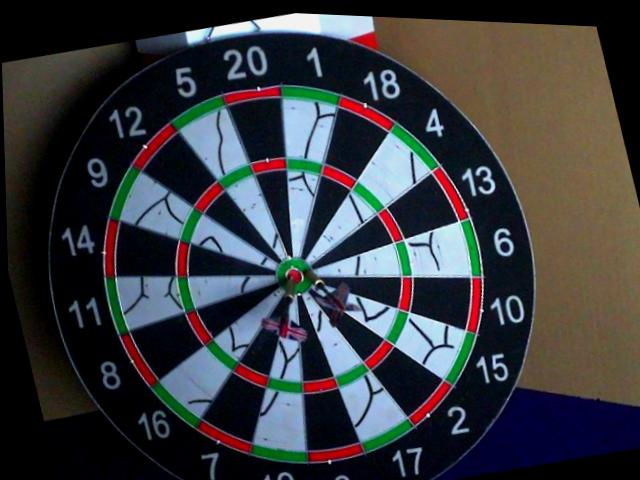bullseye: (283, 263, 312, 292)
